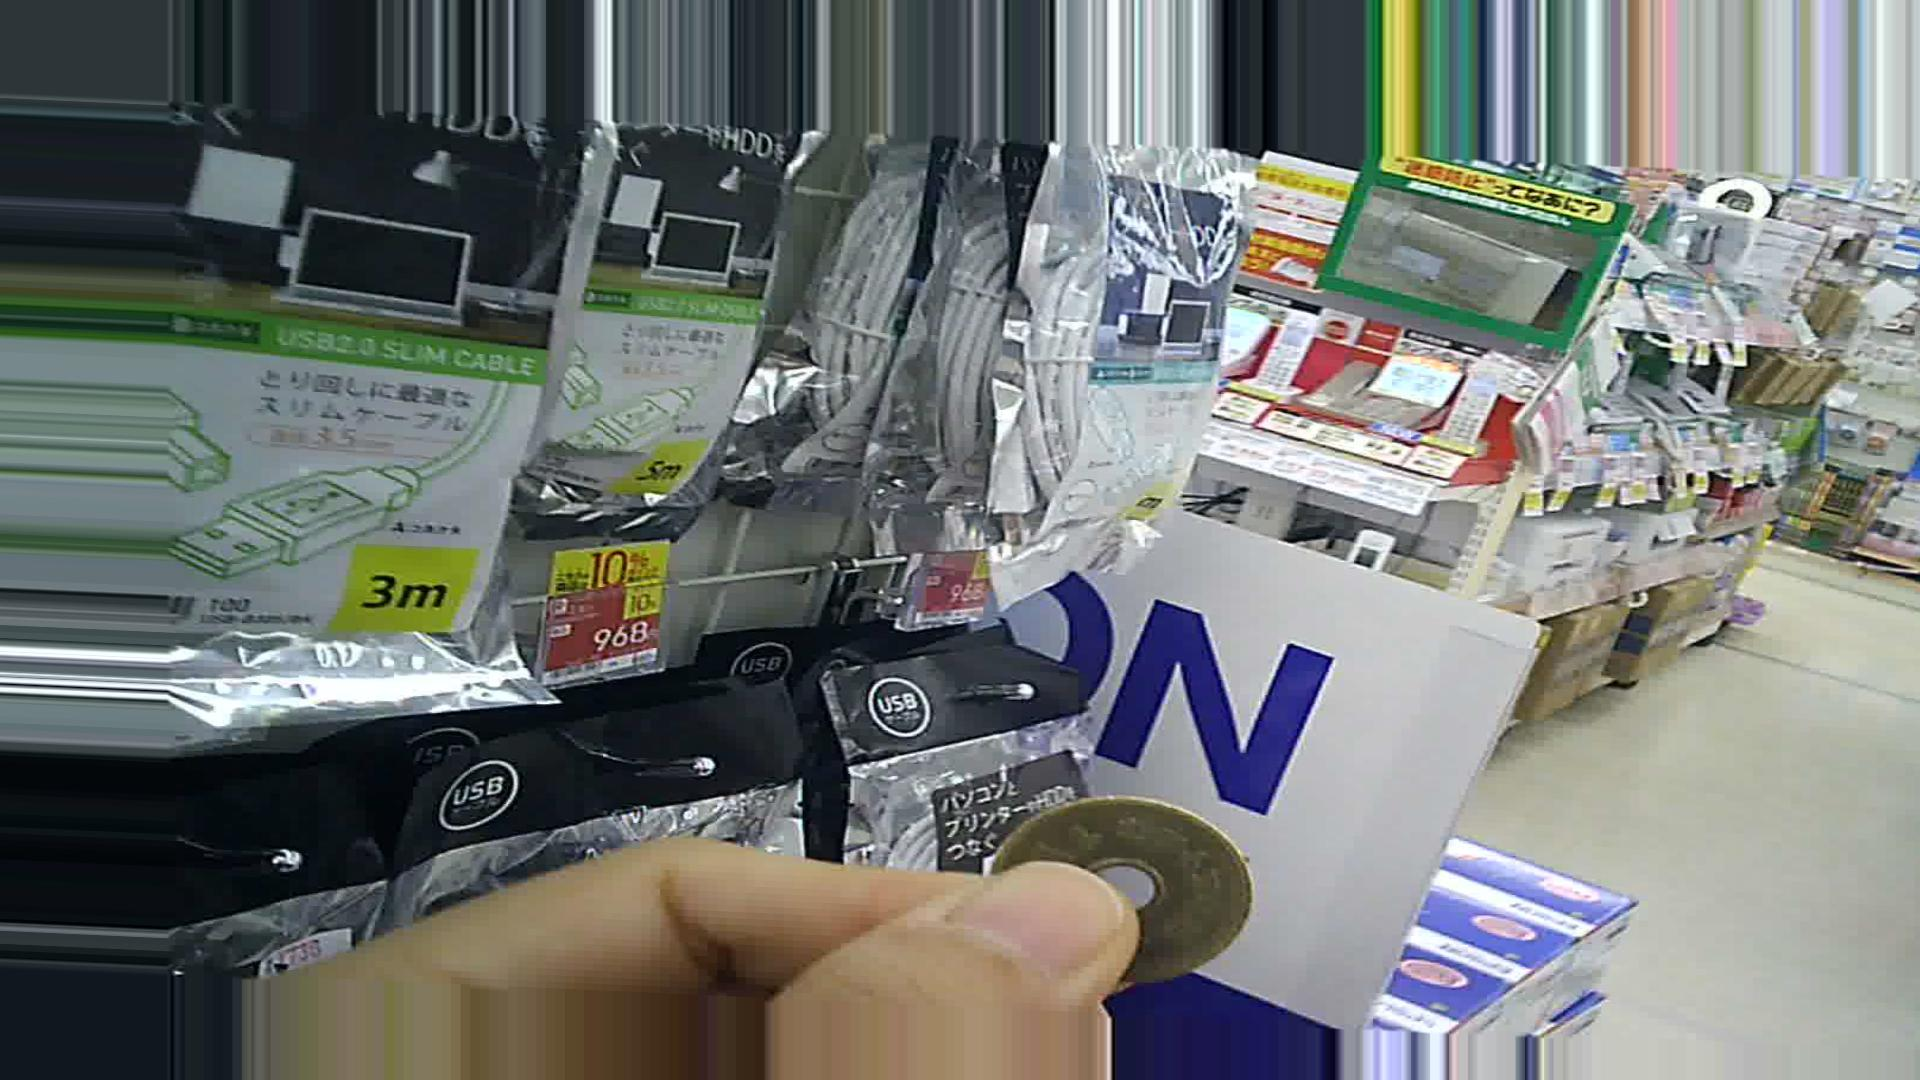5 Yen: (990, 793, 1258, 986)
